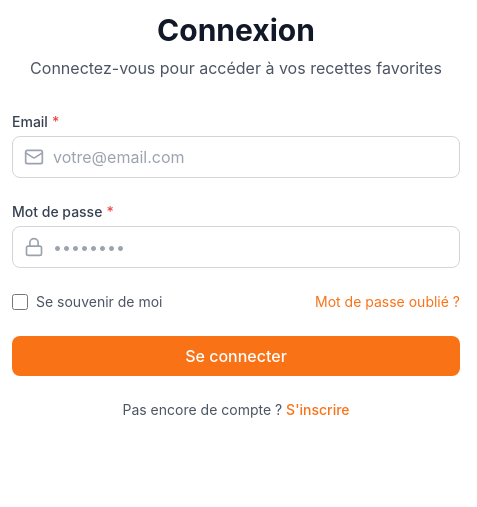
it: LoginForm › affiche le message backend en cas d’échec
In the field with placeholder "votre@email.com": (236, 157) x1=12 y1=136 x2=460 y2=178, type "test@example.com"
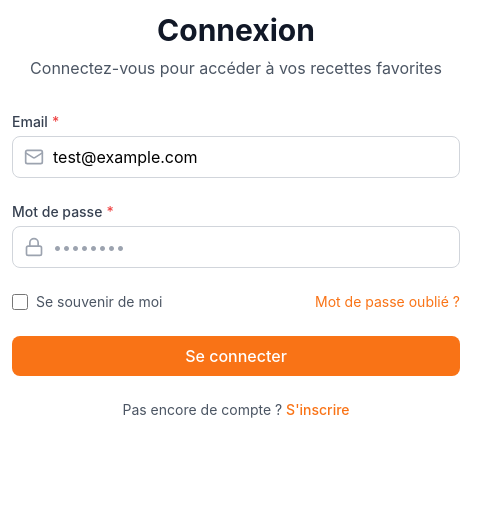
In the password field with placeholder "••••••••": (236, 247) x1=12 y1=226 x2=460 y2=268, type "secret"
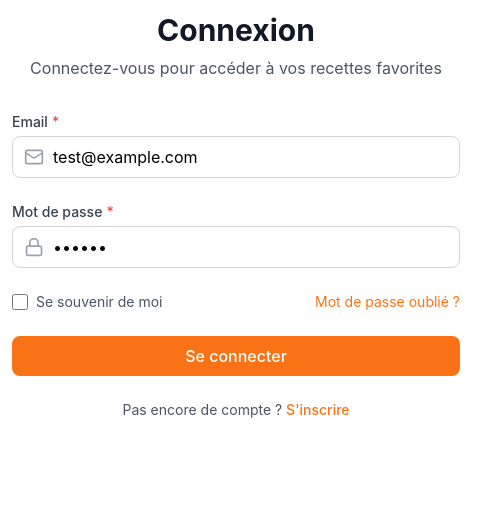
Click the button "Se connecter": (236, 356) x1=12 y1=336 x2=460 y2=376
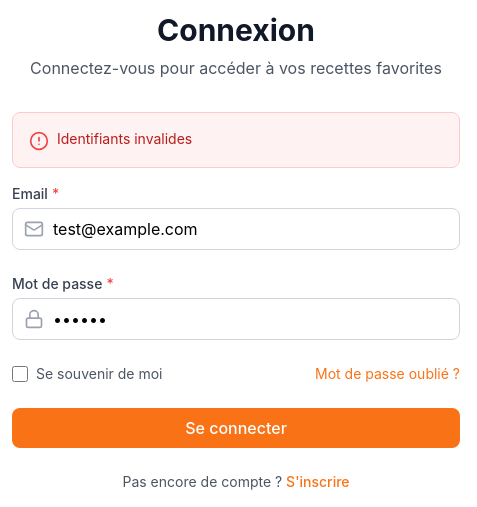
Expected: the text "Identifiants invalides" is shown, x1=57 y1=129 x2=192 y2=149
